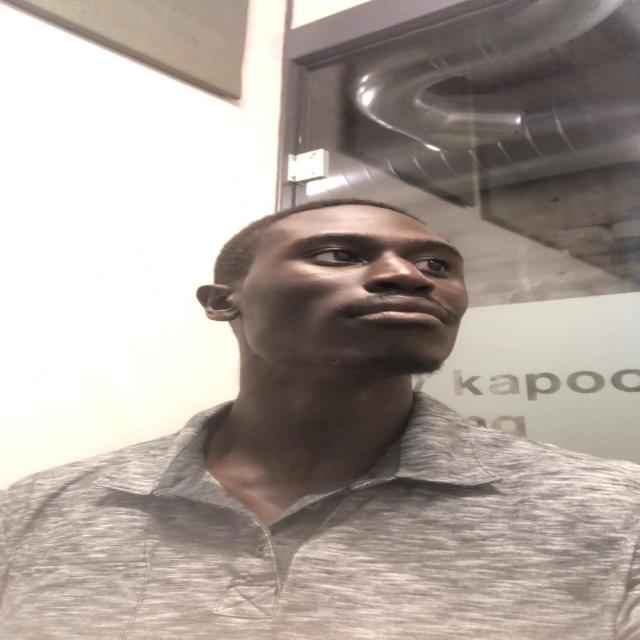face: (235, 212, 471, 374)
